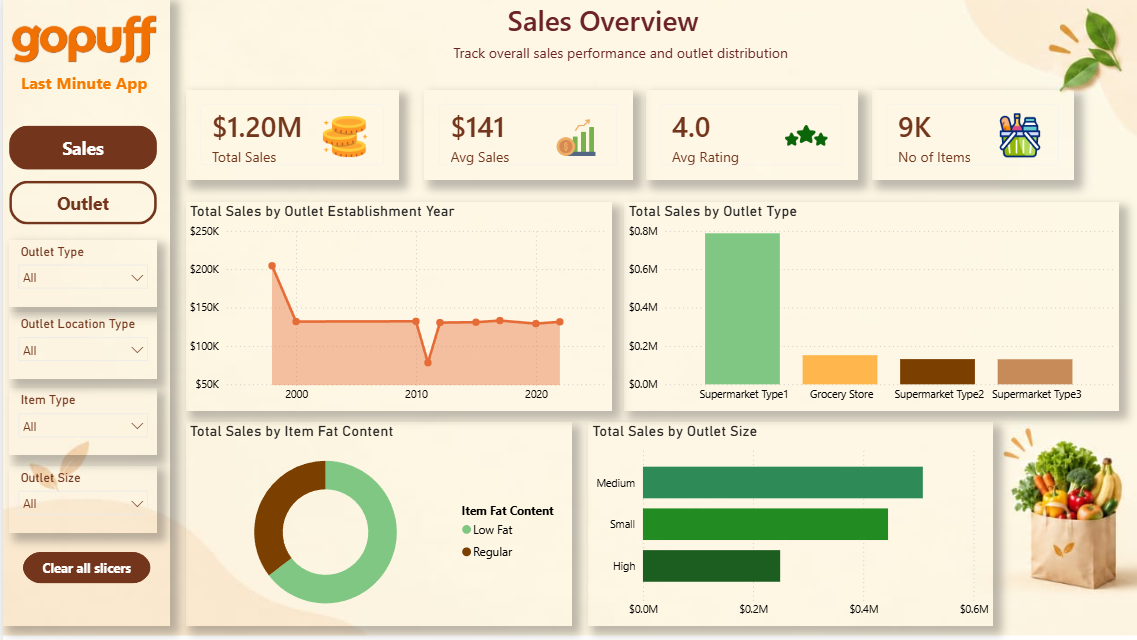

Layout of this report page (visuals, bound fields, positions):
{"tool":"powerbi","page":{"name":"Sales","canvas":[1300,738],"ordinal":0},"visuals":[{"type":"textbox","box":[432.9,0,505.7,64.3],"z":0},{"type":"textbox","box":[421.4,47.1,569,35],"z":1},{"type":"cardVisual","fields":{"Data":["Dax Measures (2).Total Sales"]},"box":[208.6,105.7,244.3,104.3],"z":2},{"type":"cardVisual","fields":{"Data":["Dax Measures (2).Avg Sales"]},"box":[481.4,105.7,238.6,104.3],"z":3},{"type":"cardVisual","fields":{"Data":["Dax Measures (2).Avg Rating"]},"box":[734.3,105.7,242.9,104.3],"z":5},{"type":"cardVisual","fields":{"Data":["Dax Measures (2).No of Items"]},"box":[992.9,105.7,231.4,104.3],"z":6},{"type":"areaChart","fields":{"Category":["zapp_data.Outlet Establishment Year"],"Y":["Dax Measures (2).Total Sales"]},"box":[208.6,234.3,487.1,238.6],"z":7},{"type":"clusteredColumnChart","fields":{"Category":["zapp_data.Outlet Type"],"Y":["Dax Measures (2).Total Sales"]},"box":[710,234.3,565.7,238.6],"z":8},{"type":"clusteredBarChart","fields":{"Category":["zapp_data.Outlet Size"],"Y":["Dax Measures (2).Total Sales"]},"box":[668.6,485.7,462.9,232.9],"z":10},{"type":"shape","box":[0,0,191.4,718.6],"z":11},{"type":"donutChart","fields":{"Category":["zapp_data.Item Fat Content"],"Y":["Dax Measures (2).Total Sales"]},"box":[208.6,485.7,441.4,232.9],"z":12},{"type":"actionButton","box":[7.1,147.1,168.6,50],"z":14},{"type":"actionButton","box":[7.1,210,168.6,50],"z":15},{"type":"slicer","fields":{"Values":["zapp_data.Outlet Type"]},"box":[7.1,277.1,168.6,77.1],"z":16},{"type":"slicer","fields":{"Values":["zapp_data.Outlet Location Type"]},"box":[7.1,360,168.6,77.1],"z":17},{"type":"slicer","fields":{"Values":["zapp_data.Item Type"]},"box":[7.1,447.1,168.6,77.1],"z":18},{"type":"slicer","fields":{"Values":["zapp_data.Outlet Size"]},"box":[7.1,535.7,168.6,77.1],"z":19},{"type":"actionButton","box":[22.9,634.3,145.7,35.7],"z":20},{"type":"image","box":[360,134.3,61.4,50],"z":21},{"type":"image","box":[624.3,134.3,61.4,50],"z":22},{"type":"image","box":[887.1,132.9,61.4,50],"z":23},{"type":"image","box":[1131.4,132.9,61.4,50],"z":24},{"type":"image","box":[10,10,165.7,78.6],"z":25},{"type":"textbox","box":[10,80,165.7,50],"z":26}]}

Visuals, with their boxes in screenshot pixels (x1, y1, x2, y2), scaled from the page's 1300x738 canvas onto the 1137x640 screenshot:
textbox: detection(379, 0, 821, 56)
textbox: detection(369, 41, 866, 71)
cardVisual - Dax Measures (2).Total Sales: detection(182, 92, 396, 182)
cardVisual - Dax Measures (2).Avg Sales: detection(421, 92, 630, 182)
cardVisual - Dax Measures (2).Avg Rating: detection(642, 92, 855, 182)
cardVisual - Dax Measures (2).No of Items: detection(868, 92, 1071, 182)
areaChart - zapp_data.Outlet Establishment Year x Dax Measures (2).Total Sales: detection(182, 203, 608, 410)
clusteredColumnChart - zapp_data.Outlet Type x Dax Measures (2).Total Sales: detection(621, 203, 1116, 410)
clusteredBarChart - zapp_data.Outlet Size x Dax Measures (2).Total Sales: detection(585, 421, 990, 623)
shape: detection(0, 0, 167, 623)
donutChart - zapp_data.Item Fat Content x Dax Measures (2).Total Sales: detection(182, 421, 568, 623)
actionButton: detection(6, 128, 154, 171)
actionButton: detection(6, 182, 154, 225)
slicer - zapp_data.Outlet Type: detection(6, 240, 154, 307)
slicer - zapp_data.Outlet Location Type: detection(6, 312, 154, 379)
slicer - zapp_data.Item Type: detection(6, 388, 154, 455)
slicer - zapp_data.Outlet Size: detection(6, 465, 154, 531)
actionButton: detection(20, 550, 147, 581)
image: detection(315, 116, 369, 160)
image: detection(546, 116, 600, 160)
image: detection(776, 115, 830, 159)
image: detection(990, 115, 1043, 159)
image: detection(9, 9, 154, 77)
textbox: detection(9, 69, 154, 113)
